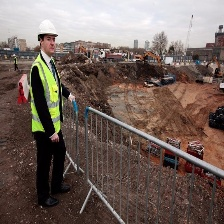helmet: (36, 20, 59, 39)
person: (27, 18, 68, 210)
vest: (29, 59, 66, 143)
